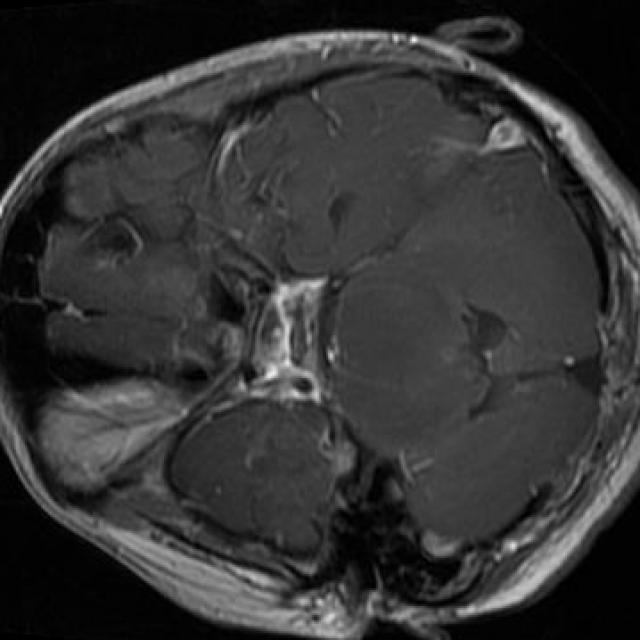glioma: (176, 405, 332, 542)
